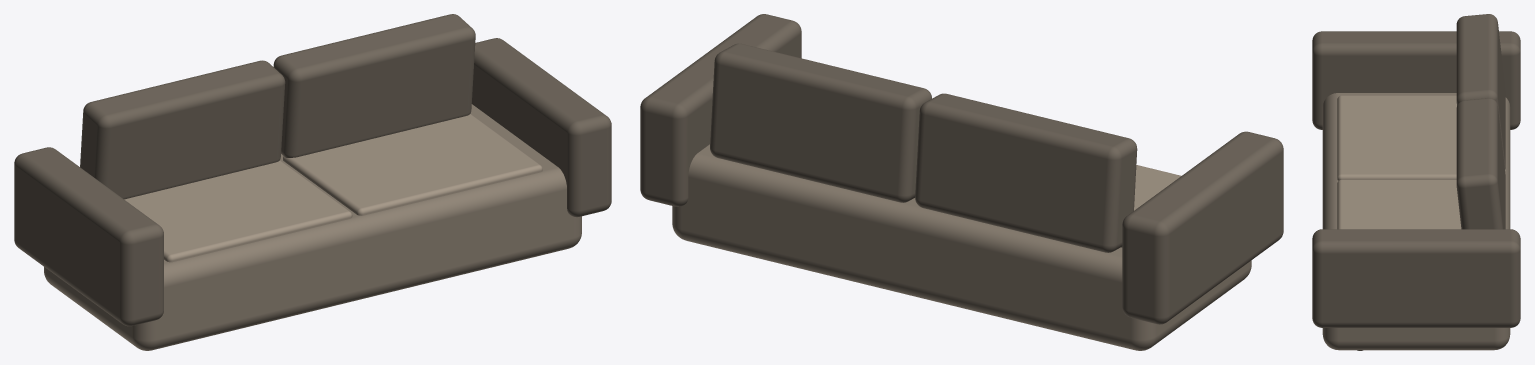
The model's file is mr-lia.glb.
3 renders of one model, left to right at view 1: azimuth 30°, elevation 25°; view 2: azimuth 150°, elevation 25°; view 3: azimuth 270°, elevation 25°, orthographic. The views are drawn at different scales.
Parts seen in each view (by area): view 1: seat-base, back-cushion-1, back-cushion-2, arm-left, seat-cushion-2, arm-right, seat-cushion-1; view 2: seat-base, back-cushion-1, back-cushion-2, arm-left, arm-right, seat-cushion-1; view 3: arm-right, arm-left, seat-cushion-1, seat-base, seat-cushion-2, back-cushion-2, back-cushion-1.
Boxes of the visible parts, x1,y1,x2,y2 form: seat-base: [44, 104, 581, 350]; back-cushion-1: [80, 60, 285, 199]; back-cushion-2: [273, 14, 475, 157]; arm-left: [14, 147, 163, 326]; seat-cushion-2: [283, 114, 542, 215]; arm-right: [472, 38, 611, 217]; seat-cushion-1: [124, 160, 352, 262]; seat-base: [672, 144, 1251, 350]; back-cushion-1: [915, 93, 1137, 252]; back-cushion-2: [710, 43, 931, 202]; arm-left: [1122, 131, 1283, 324]; arm-right: [640, 14, 801, 206]; seat-cushion-1: [1121, 165, 1181, 247]; arm-right: [1312, 229, 1520, 327]; arm-left: [1312, 31, 1520, 129]; seat-cushion-1: [1337, 95, 1456, 180]; seat-base: [1322, 93, 1510, 350]; seat-cushion-2: [1337, 179, 1461, 229]; back-cushion-2: [1456, 98, 1505, 229]; back-cushion-1: [1456, 14, 1505, 169].
Size of the model in its own units: 2.27 by 0.8189 by 0.92.
